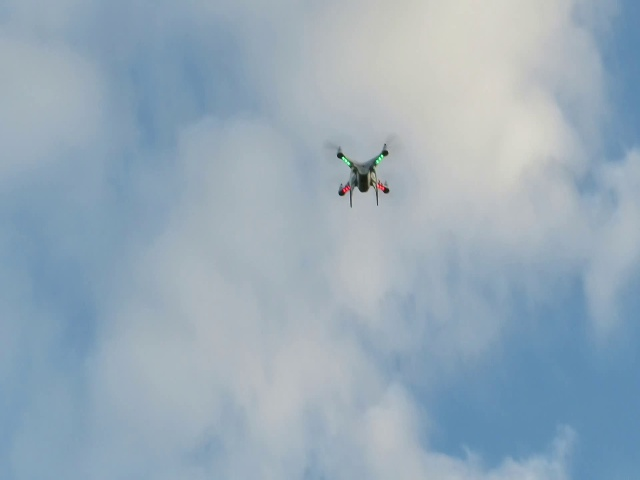drone: (328, 137, 397, 210)
